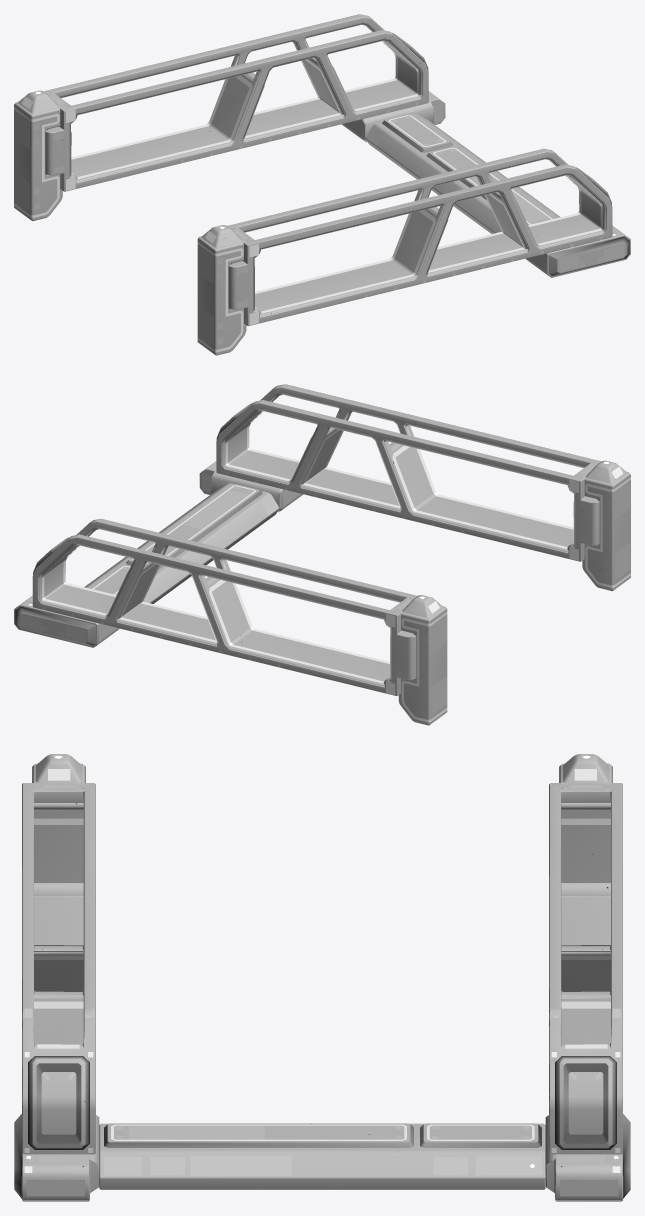
File: SM_RoofConnector_2_Merged.fbx
3 renders of one model, top to bottom at view 1: azimuth 30°, elevation 25°; view 2: azimuth 150°, elevation 25°; view 3: azimuth 270°, elevation 25°, orthographic. The views are drawn at different scales.
Visible parts, largest first — view 1: SM_RoofConnector_2_Merged_LOD0; view 2: SM_RoofConnector_2_Merged_LOD0; view 3: SM_RoofConnector_2_Merged_LOD0.
Part boxes in pixels (<box>): SM_RoofConnector_2_Merged_LOD0: <box>14,14,630,355</box>; SM_RoofConnector_2_Merged_LOD0: <box>14,384,630,725</box>; SM_RoofConnector_2_Merged_LOD0: <box>14,754,630,1201</box>.
Bounding box in the file's own units: 359 × 324 × 98.72.
